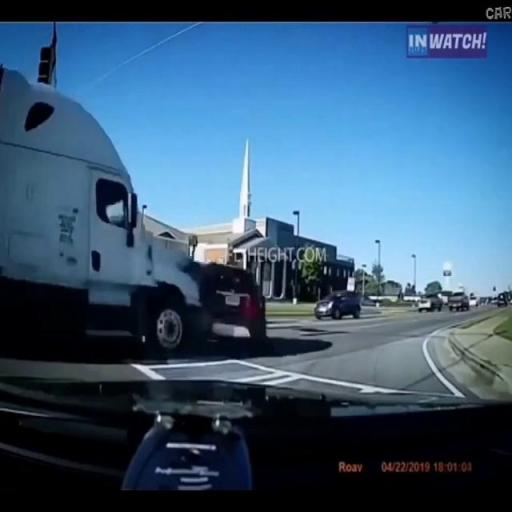小汽车: (314, 289, 363, 321)
小汽车撞小汽车: (2, 68, 266, 351)
